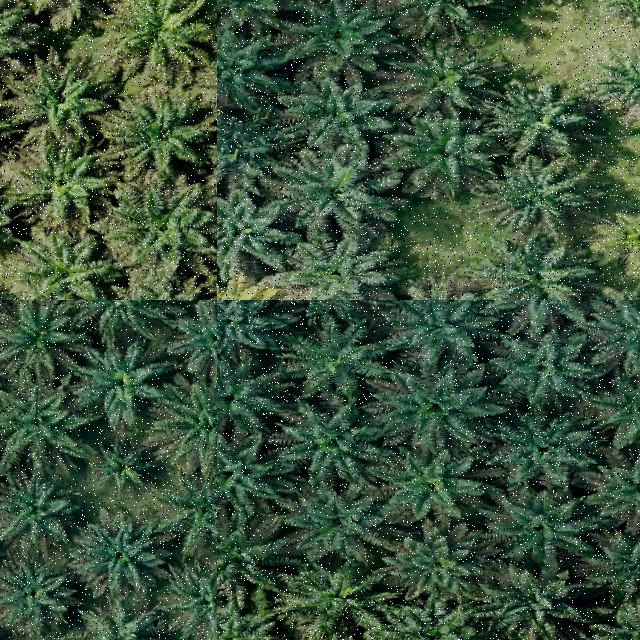Ganoderma: (612, 216, 640, 260)
